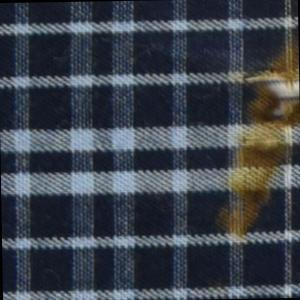Damage: (250, 65, 300, 137)
Oil Stain: (211, 32, 300, 246)
